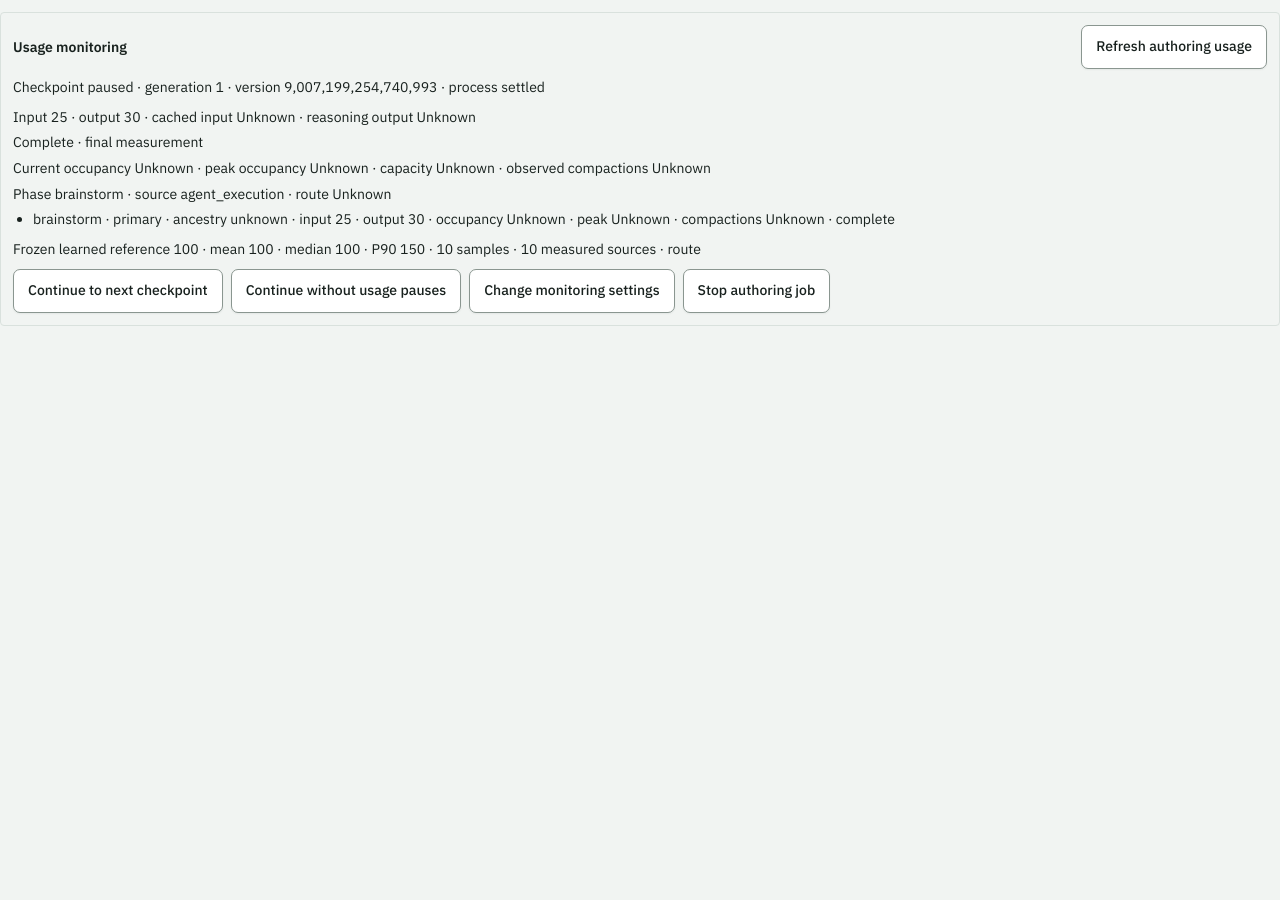
Test: replays high authoring policy edit after uncertain response and newer checkpoint with original body/key
Step 1. Click the button "Change monitoring settings" → (572, 291), box [469, 269, 674, 313]
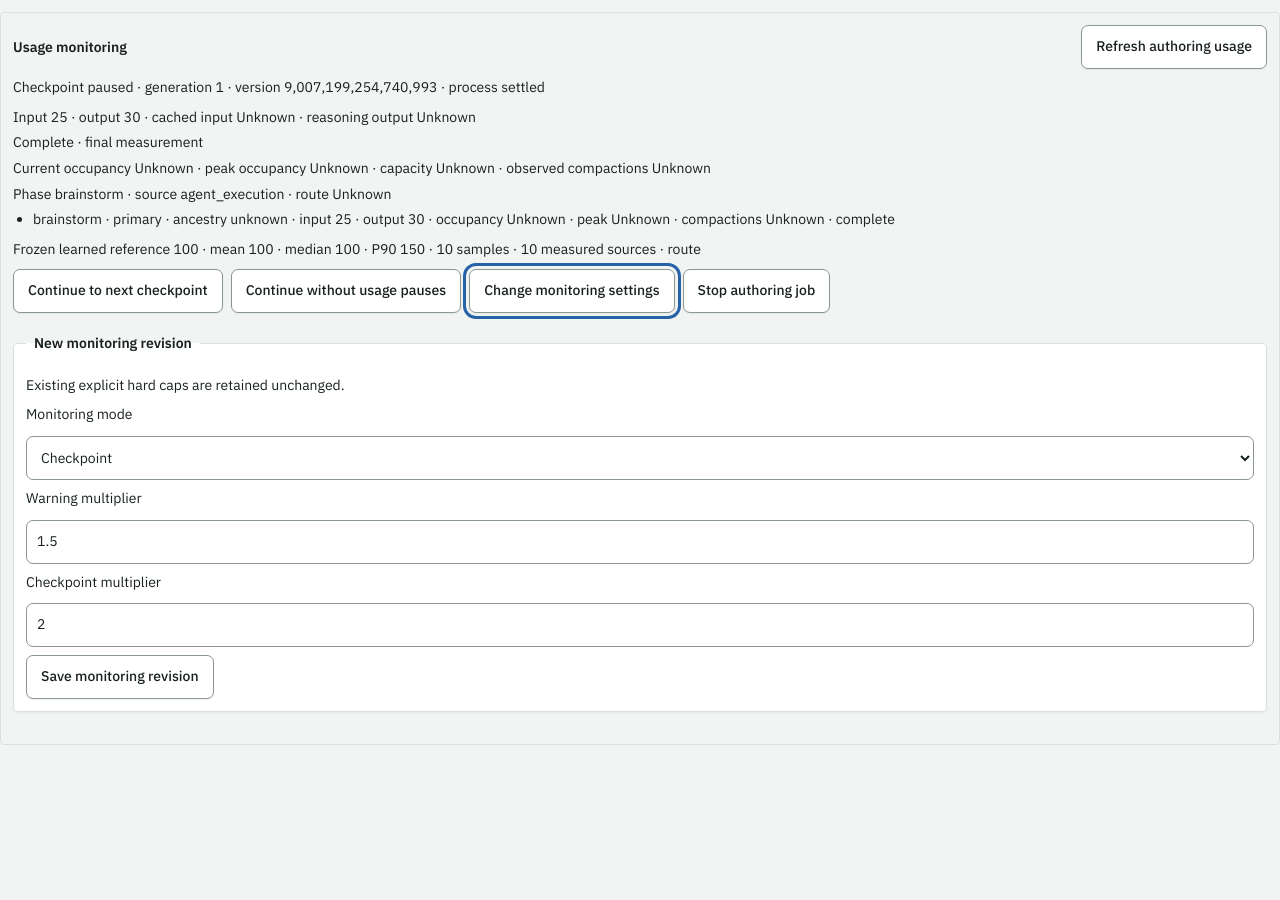
Step 2. Click the button "Save monitoring revision" → (120, 677), box [26, 655, 214, 699]
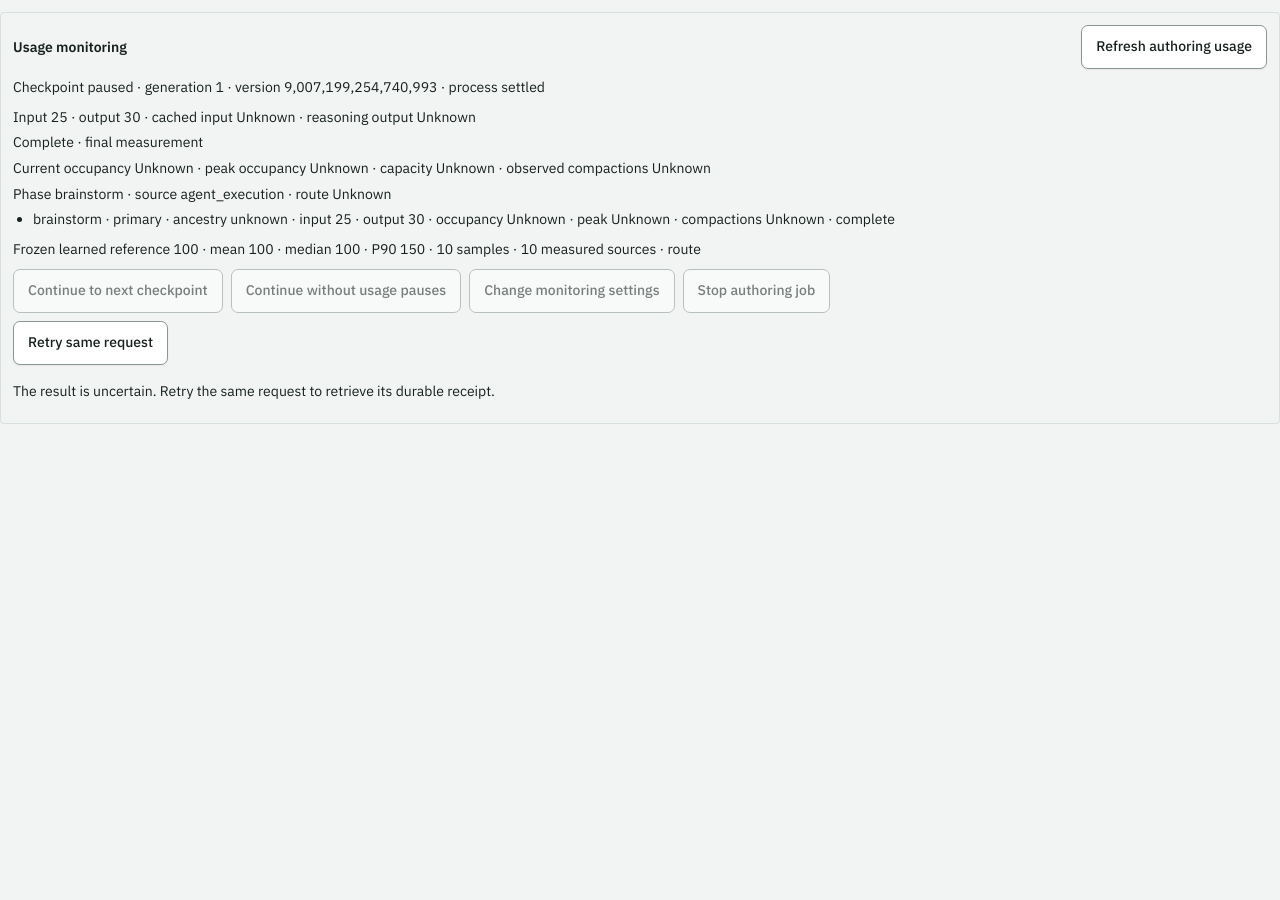
Expected: the button "Retry same request" is shown, [13, 321, 168, 365]
Step 3. Click the button "Refresh authoring usage" → (1174, 47), box [1081, 25, 1267, 69]
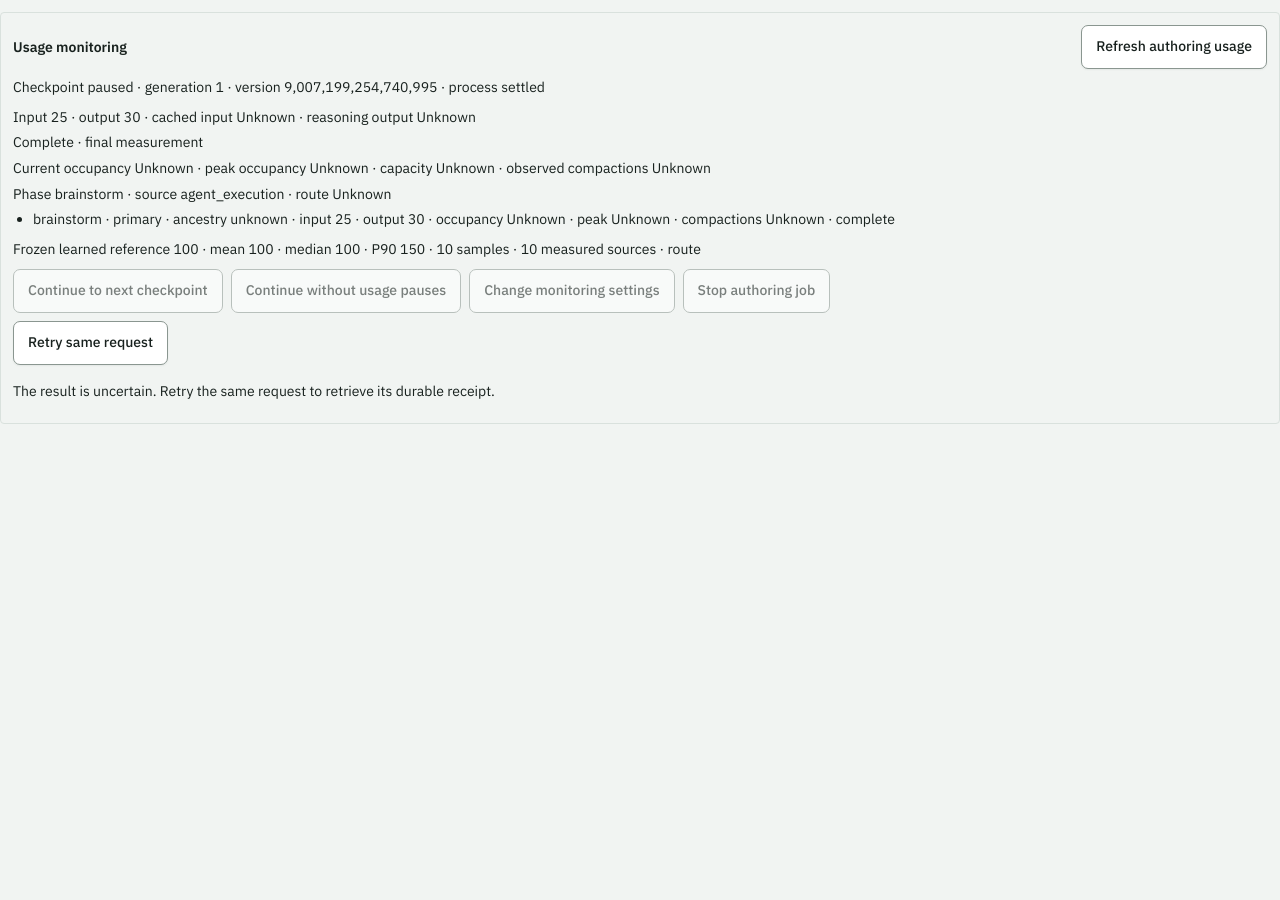
Expected: the text "version 9,007,199,254,740,995" is shown, [13, 78, 545, 96]
Step 4. Click the button "Retry same request" → (90, 343), box [13, 321, 168, 365]
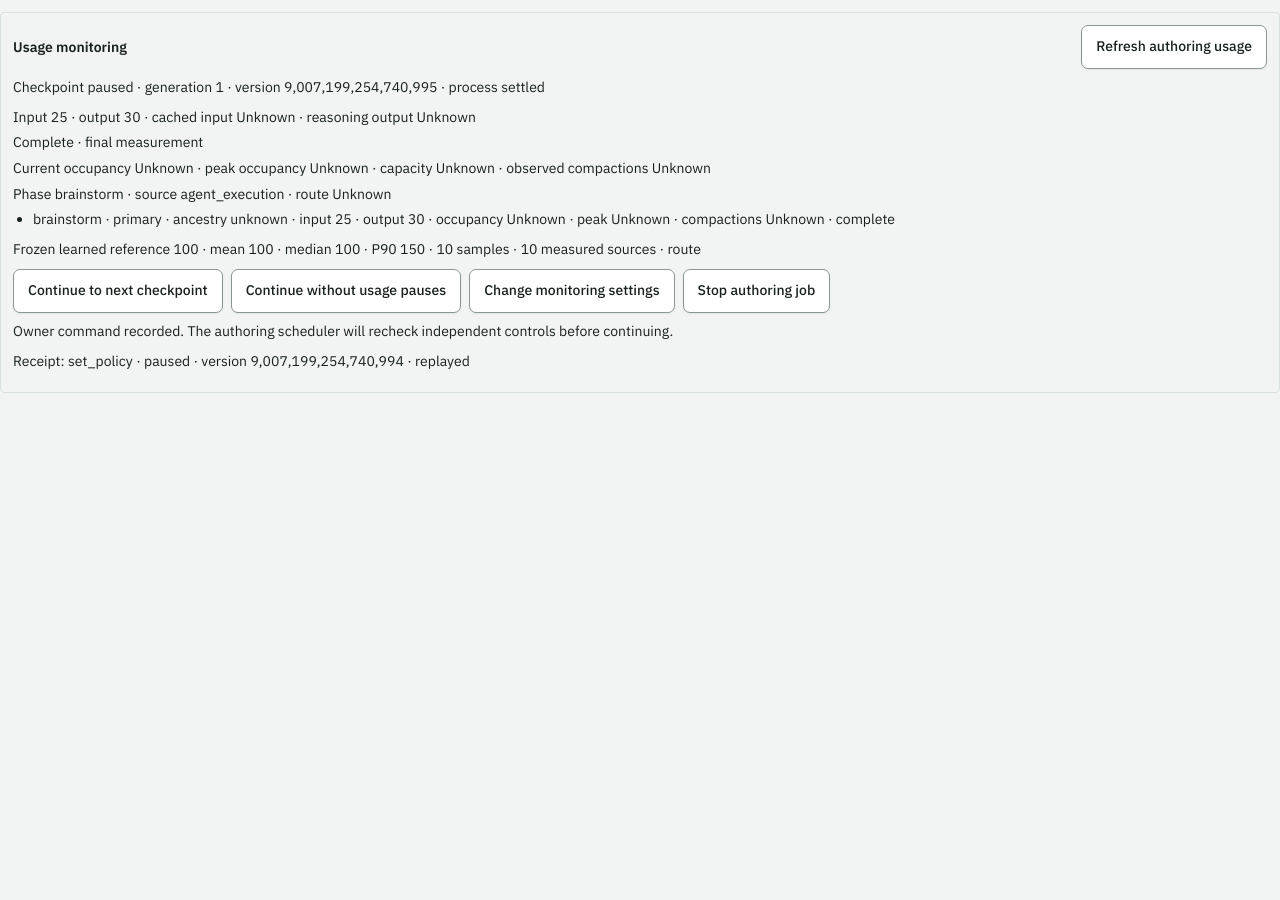
Expected: the text "Owner command recorded" is shown, [13, 322, 673, 340]
Expected: the button "Retry same request" is gone
